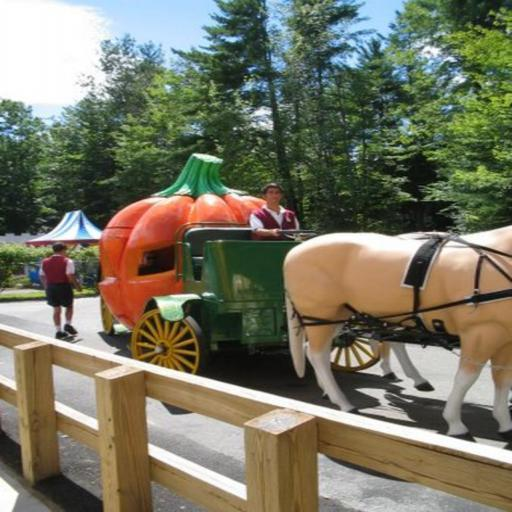horse: (277, 223, 511, 445)
